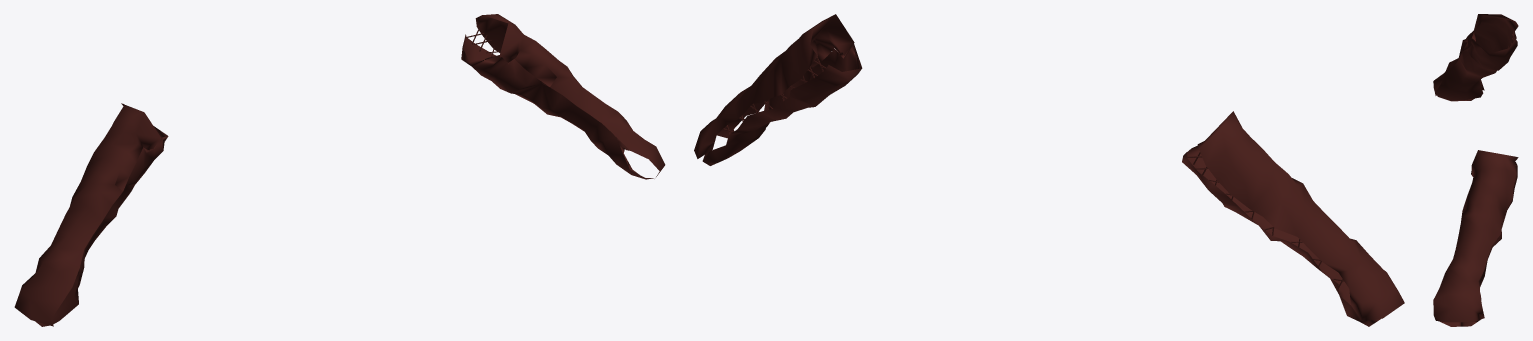
The model's file is VII_gloves.glb.
The picture shows the model from 3 angles, left to right: view 1: azimuth 30°, elevation 25°; view 2: azimuth 150°, elevation 25°; view 3: azimuth 270°, elevation 25°; orthographic projection. The views are drawn at different scales.
Visible parts, largest first — view 1: Vi_Gloves.001; view 2: Vi_Gloves.001; view 3: Vi_Gloves.001.
Part boxes in pixels (left/top/right/bottom): Vi_Gloves.001: left=14, top=14, right=665, bottom=326; Vi_Gloves.001: left=694, top=14, right=1404, bottom=326; Vi_Gloves.001: left=1433, top=14, right=1518, bottom=326.
Size of the model in its own units: 1.05 by 0.2725 by 0.1595.
